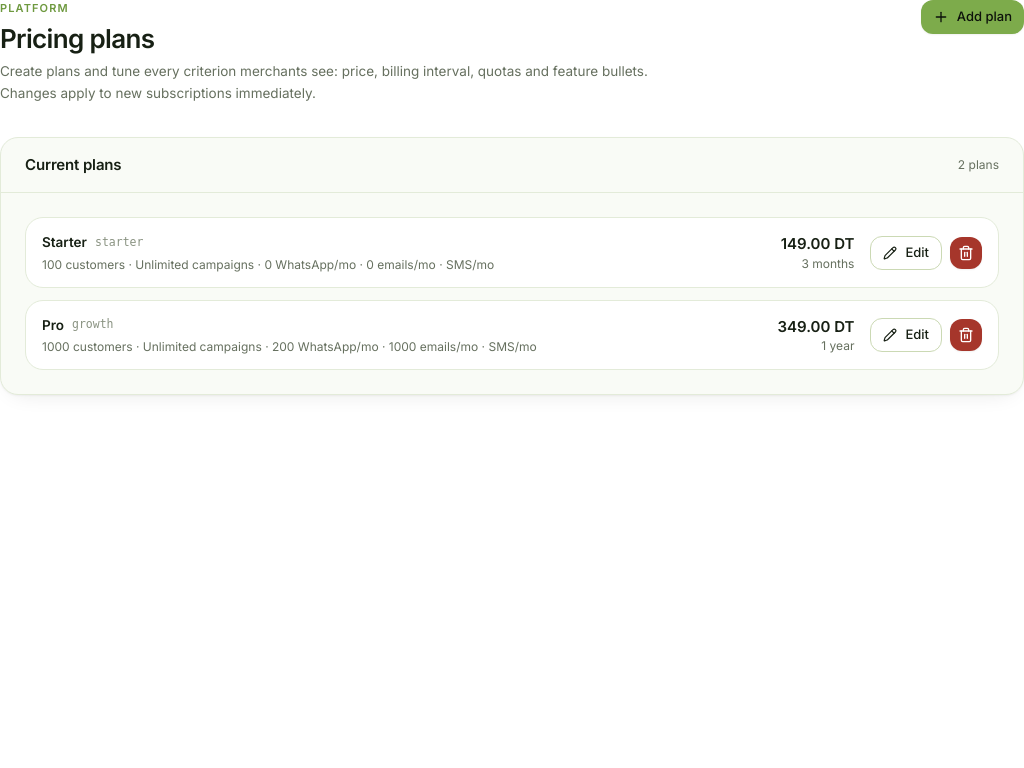
Test case: AdminPlansManager › removes a plan after confirmation
Click the button named "Delete Pro".
click(966, 335)  # box [950,319,982,351]
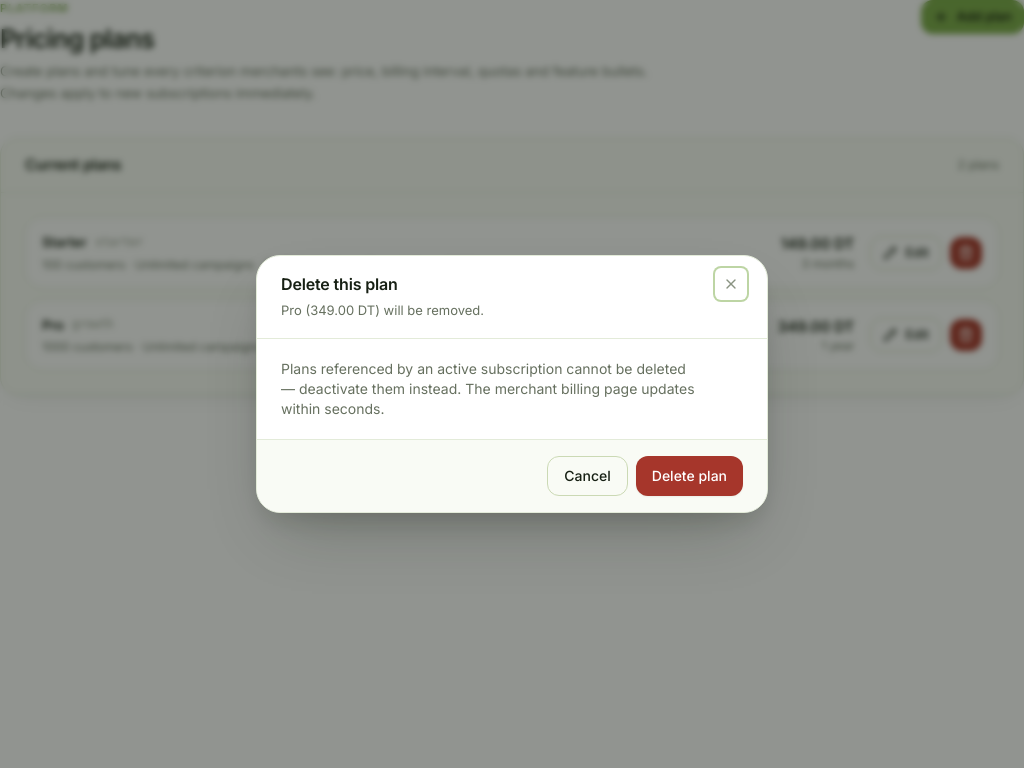
expect the heading "Delete this plan" is shown: met, box [281,274,398,294]
Click the button "Delete plan".
click(689, 476)  # box [636,456,743,496]
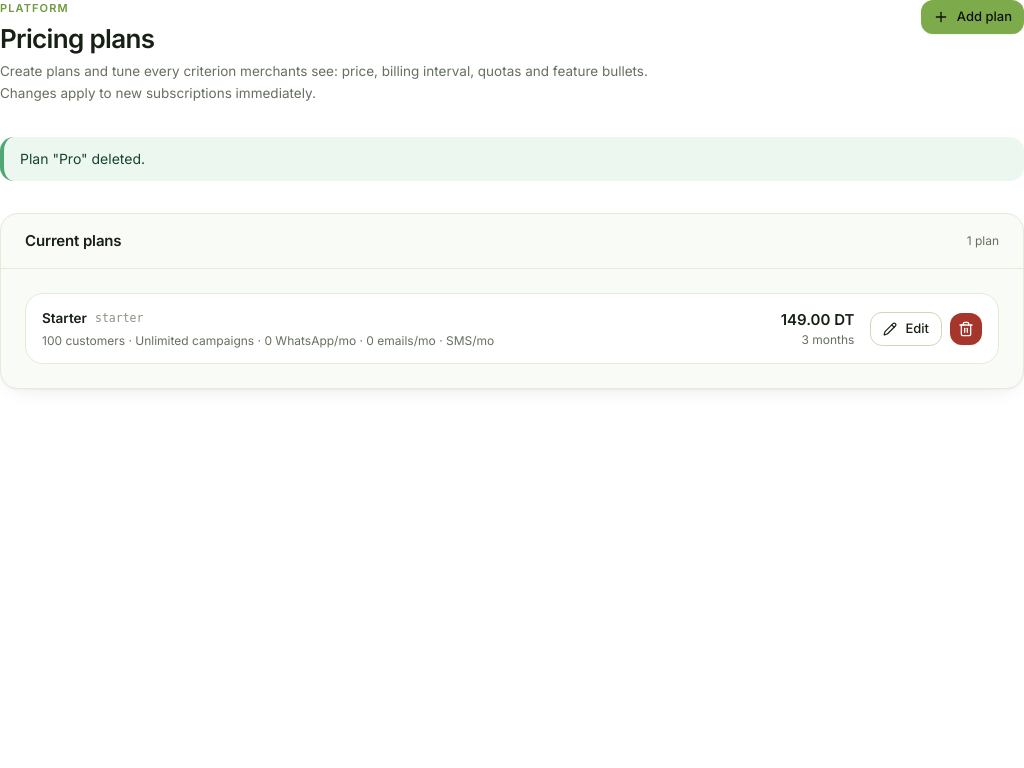
expect the message reads "Plan \"Pro\" deleted.": met, box [20,150,145,167]
